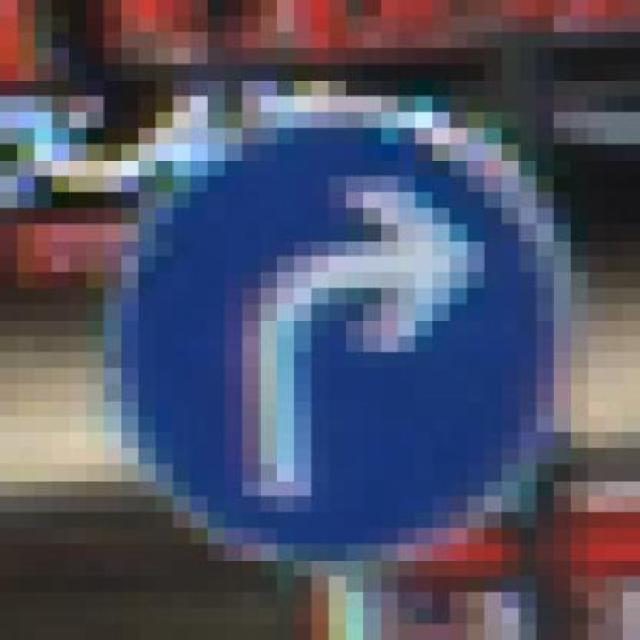Turn right ahead: (120, 80, 572, 592)
